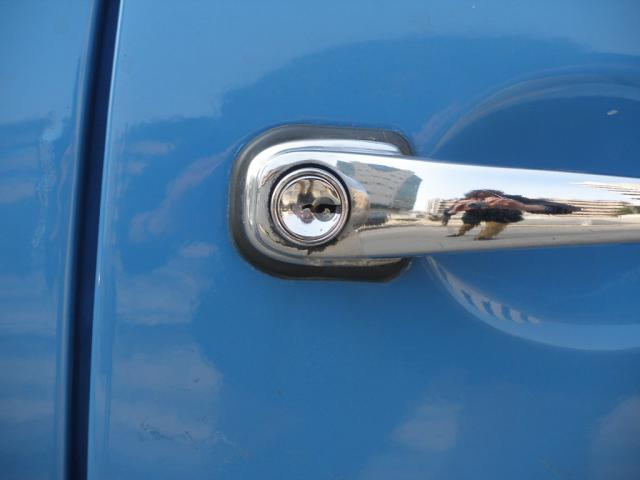Door-handle: (227, 124, 640, 284)
